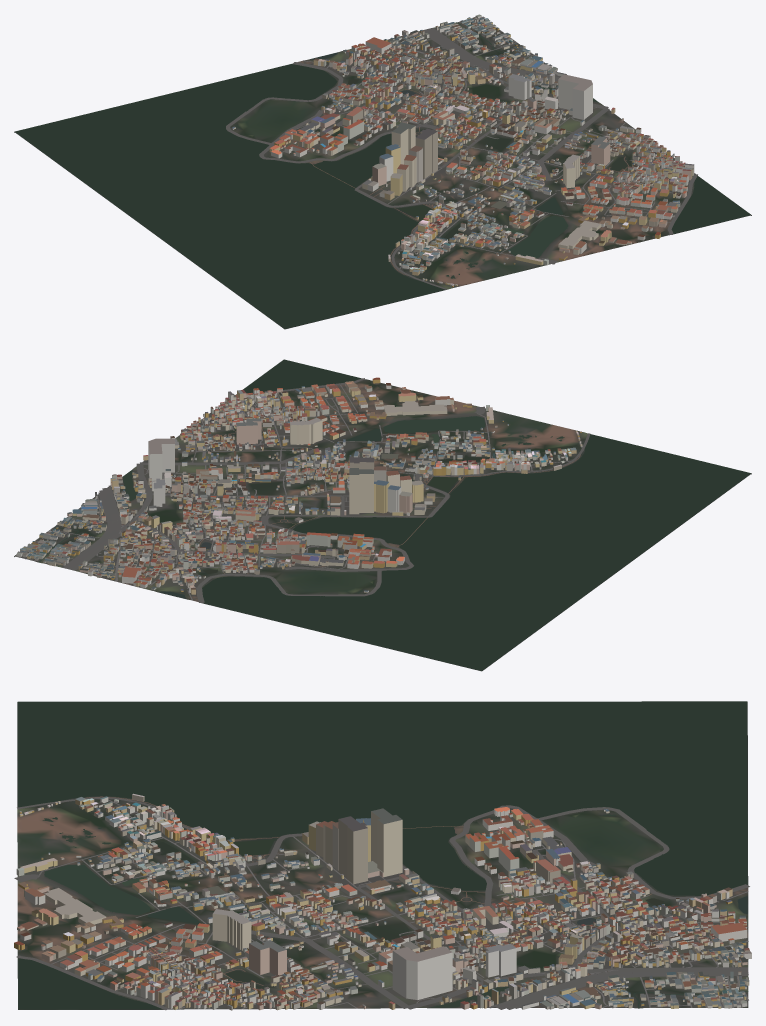
The picture shows the model from 3 angles, top to bottom: view 1: azimuth 30°, elevation 25°; view 2: azimuth 150°, elevation 25°; view 3: azimuth 270°, elevation 25°; orthographic projection. The views are drawn at different scales.
Visible parts, largest first — view 1: water, buildings, ground, roads; view 2: water, buildings, ground, roads; view 3: water, buildings, ground, roads.
Part boxes in pixels (bbox=[...]): water: bbox=[15, 22, 750, 328]; buildings: bbox=[231, 14, 694, 287]; ground: bbox=[14, 18, 751, 329]; roads: bbox=[226, 20, 697, 289]; water: bbox=[39, 359, 750, 670]; buildings: bbox=[16, 377, 582, 594]; ground: bbox=[14, 362, 751, 671]; roads: bbox=[22, 378, 590, 602]; water: bbox=[17, 701, 748, 1009]; buildings: bbox=[14, 793, 751, 1010]; ground: bbox=[17, 702, 748, 1009]; roads: bbox=[14, 796, 749, 1010].
Bounding box in the file's own units: 1410 × 116 × 1416.
